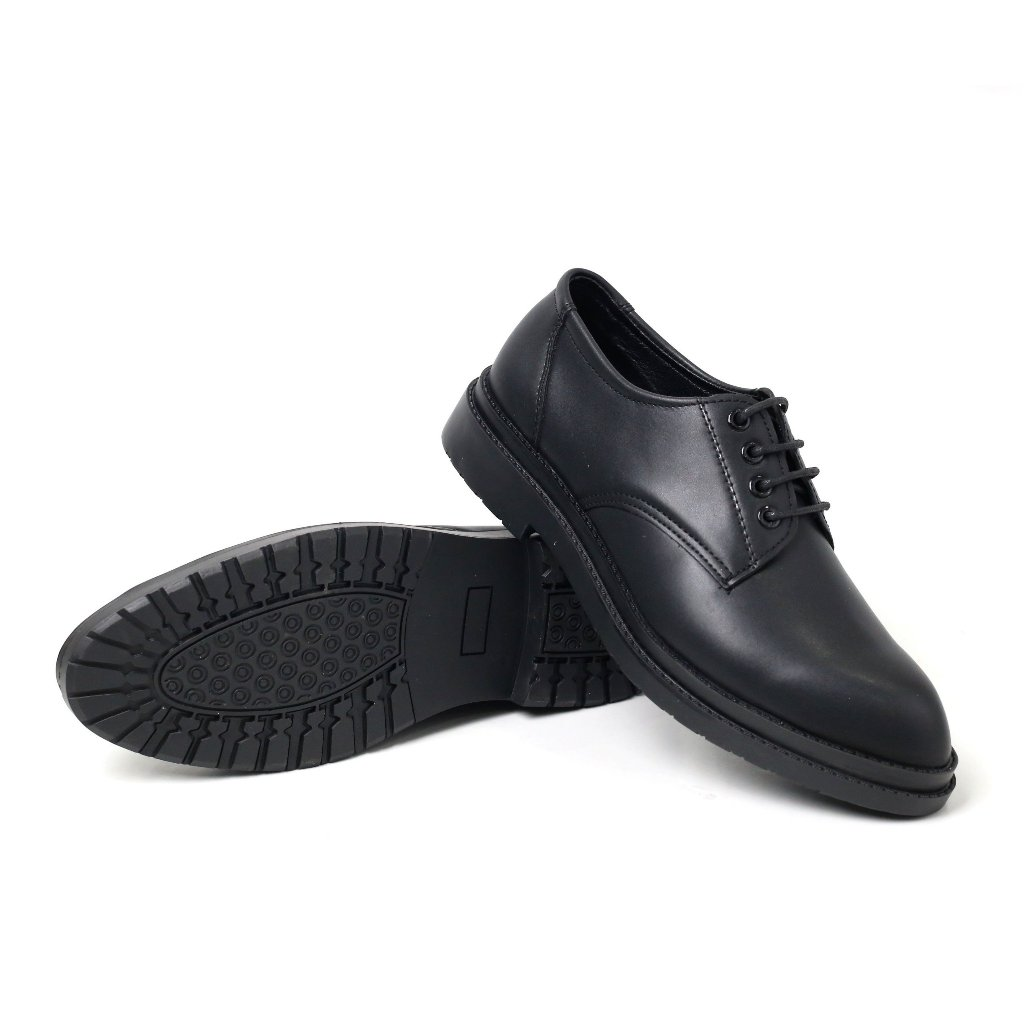derby: (438, 268, 958, 823), (51, 518, 649, 779)
